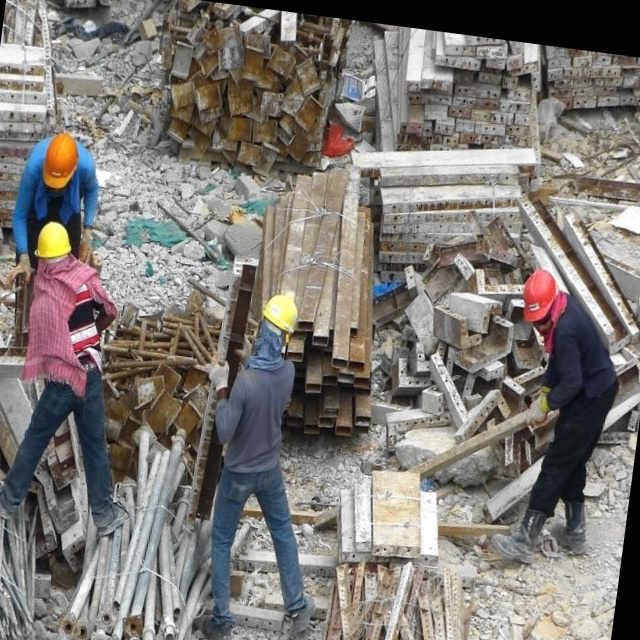Con_Casco: (250, 282, 303, 363), (518, 268, 561, 340), (37, 128, 82, 195)
